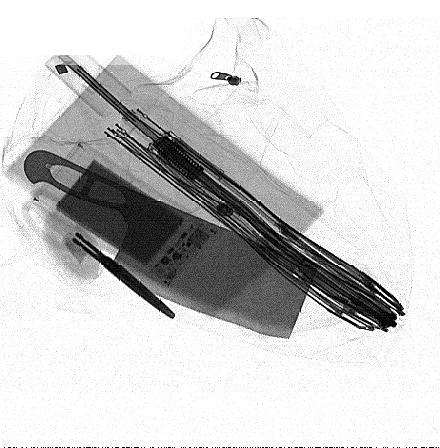Knife: (22, 150, 321, 343)
Powerbank: (34, 140, 223, 291)
Scissors: (21, 191, 181, 322)
